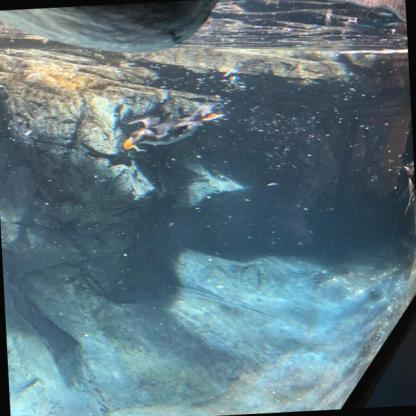puffin: (113, 102, 222, 156)
